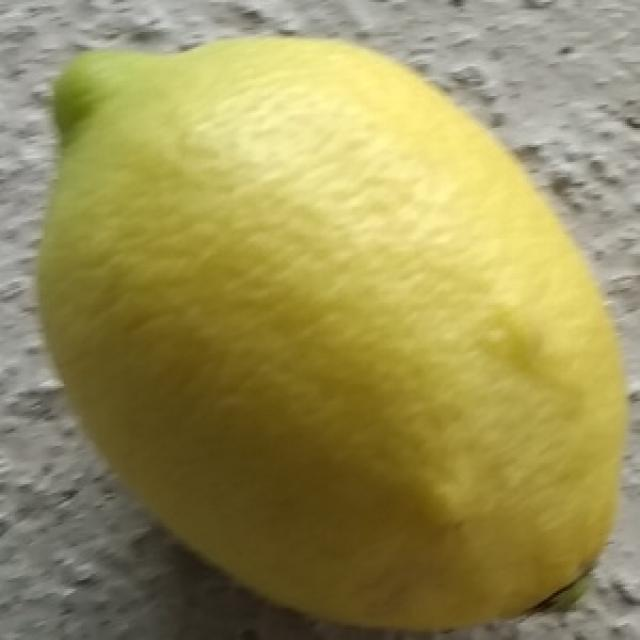Lemon: (36, 32, 630, 631)
